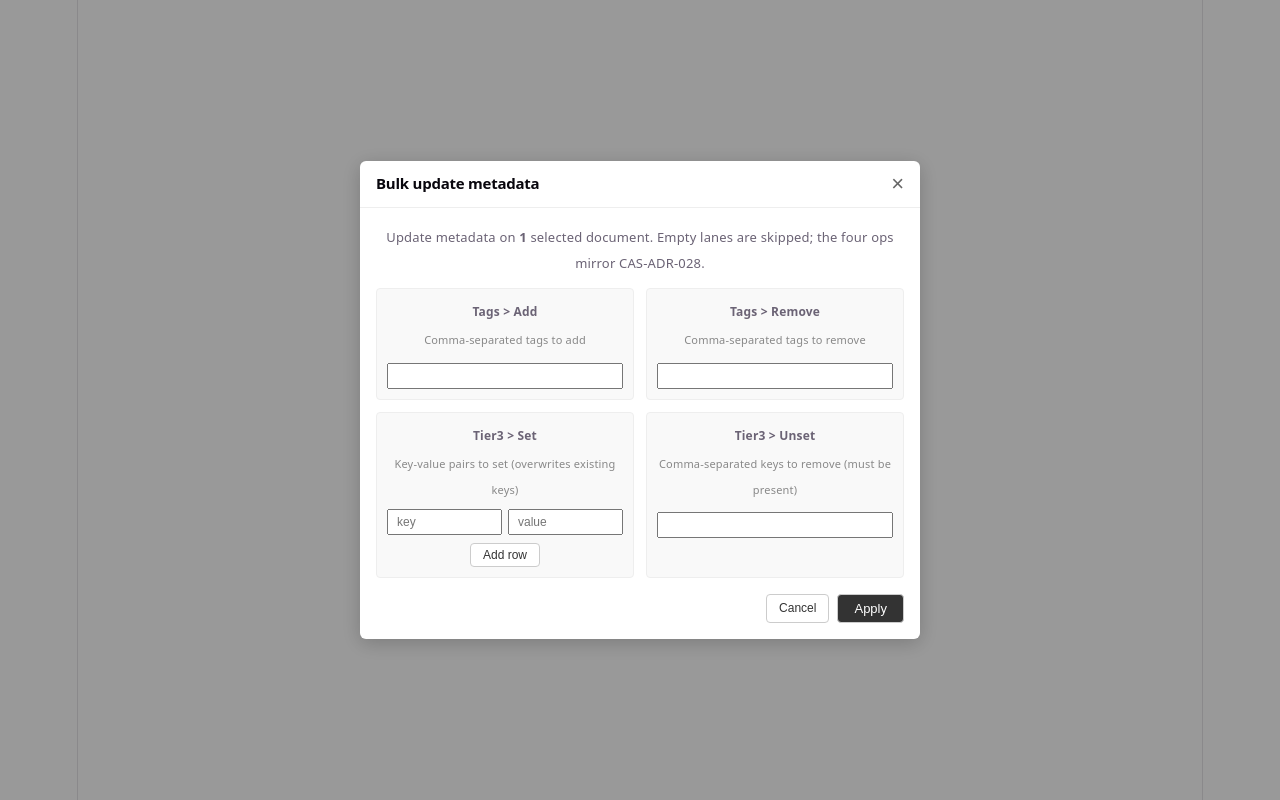
Scenario: BulkMetadataDialog › detects Tier3 set/unset overlap client-side and disables apply
The width and height of the screenshot is (1280, 800).
Type "ticket_id" into the field with placeholder "key".
click(444, 522); type("ticket_id")  # box [387,509,502,535]
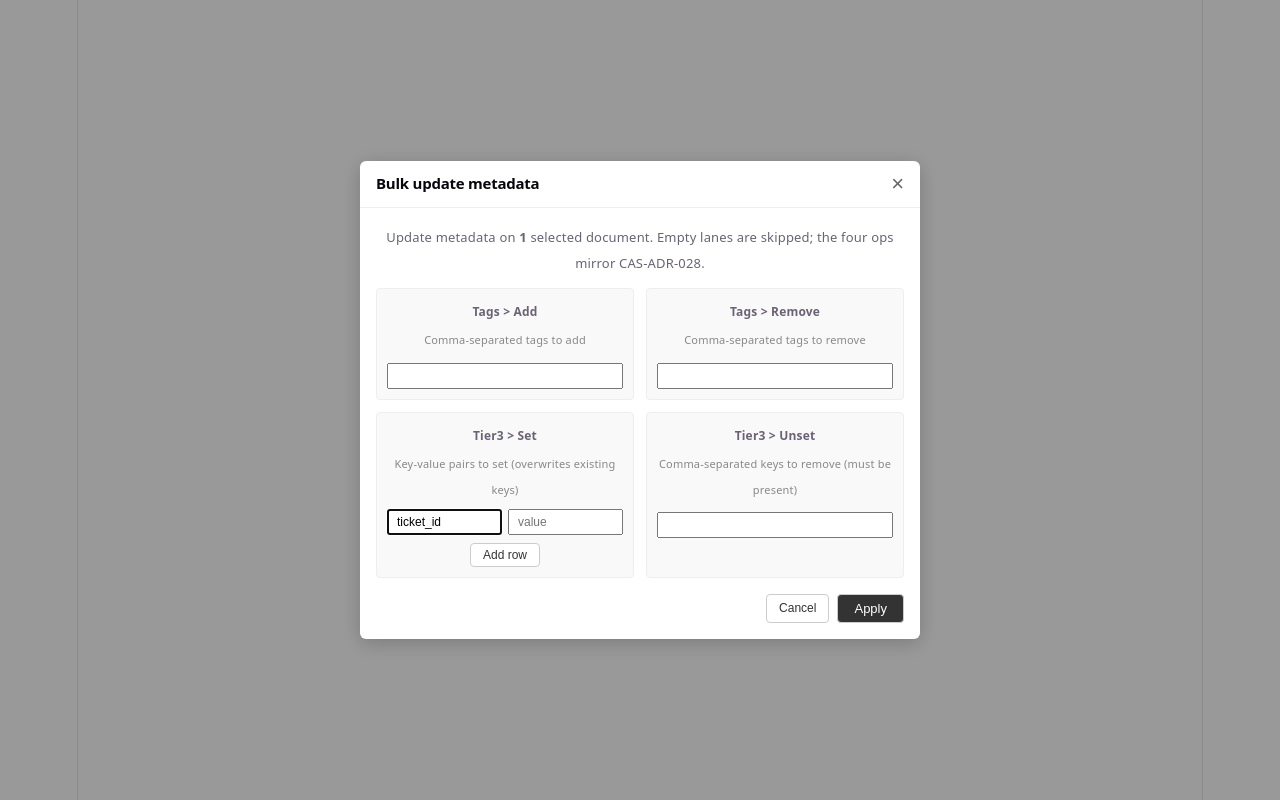
Type "T-0001" into the field with placeholder "value".
click(566, 522); type("T-0001")  # box [508,509,623,535]
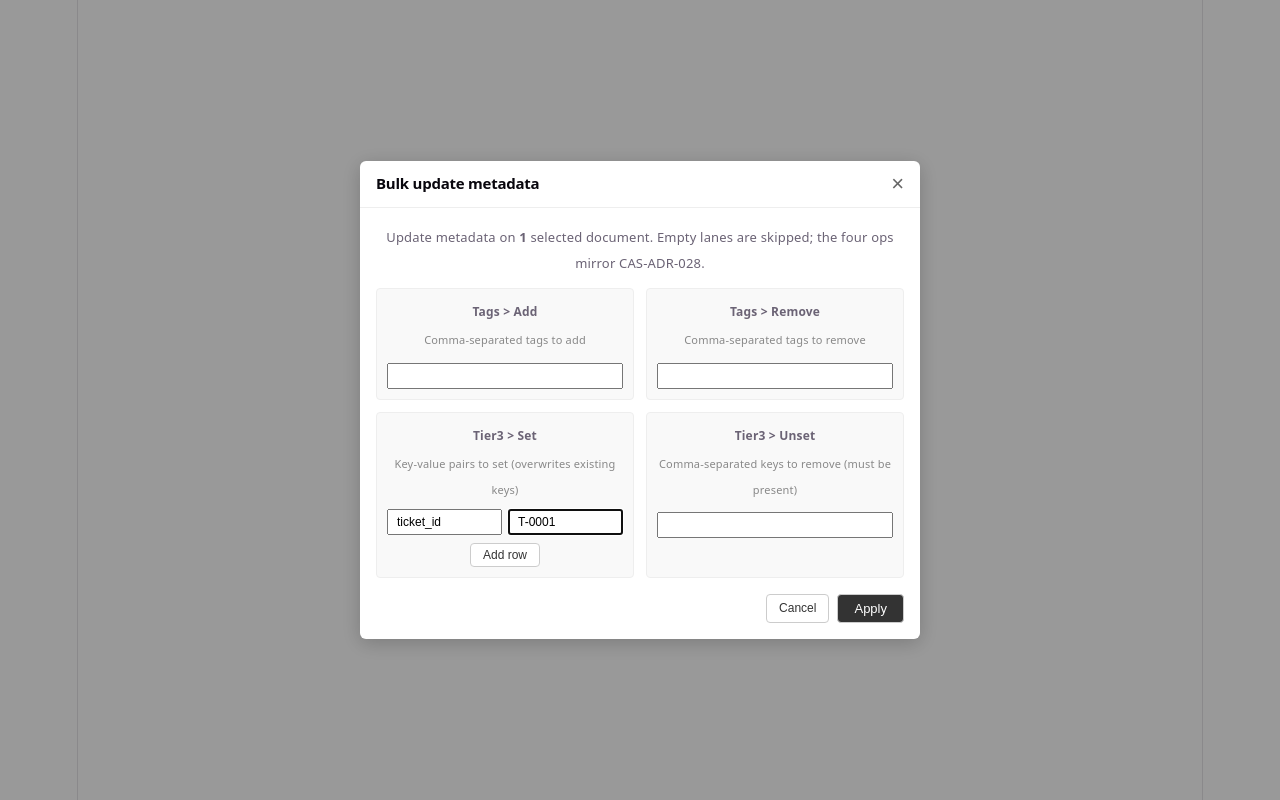
Type "ticket_id" into the field named "Tier3 keys to unset".
click(775, 525); type("ticket_id")  # box [657,512,893,538]
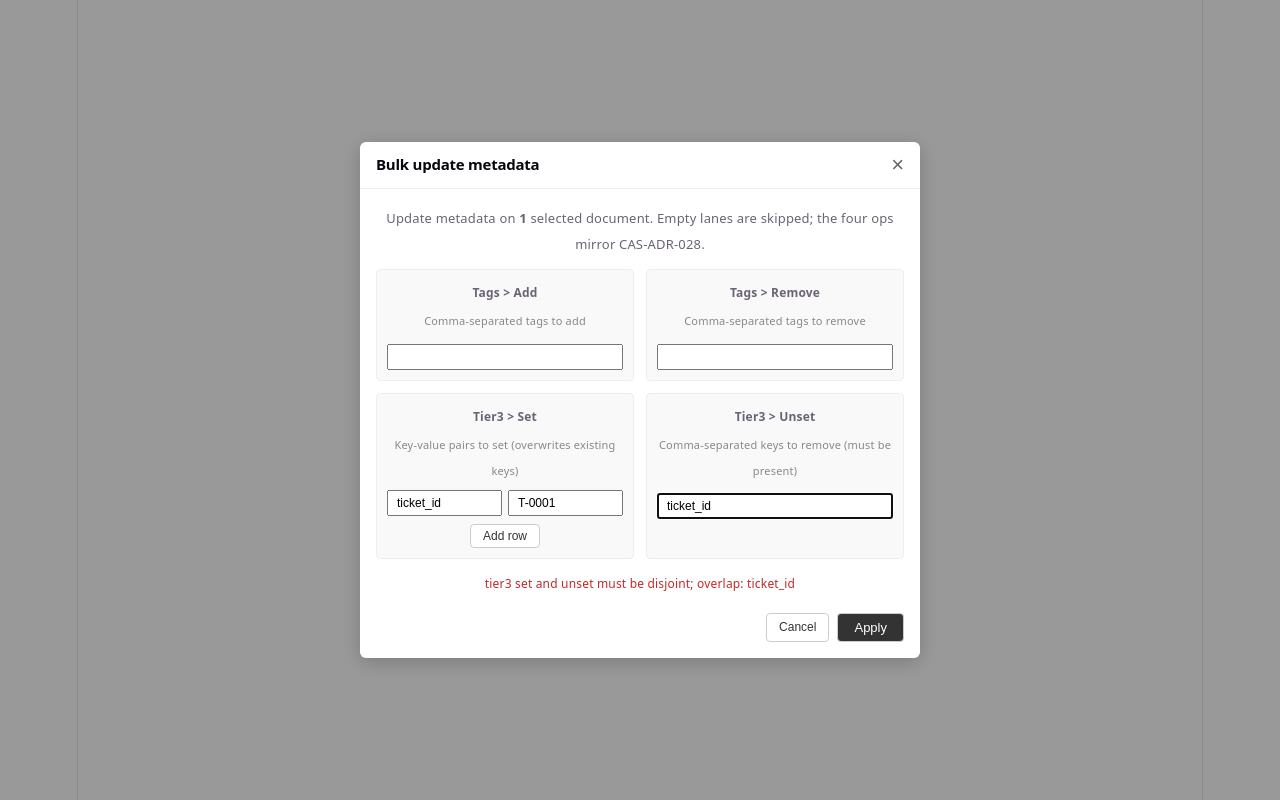
Expected: the button "Apply" is disabled, [838,613,904,642]
Expected: the text "tier3 set and unset must be disjoint; overlap: ticket_id" is shown, [485,575,795,592]
